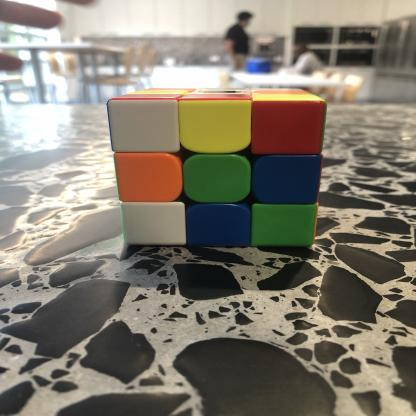UnsolvedCube: (101, 84, 335, 267)
